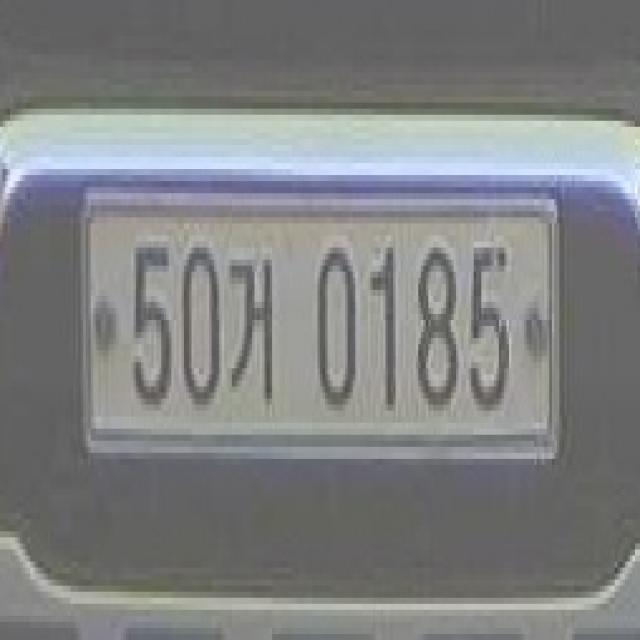0: (177, 242, 224, 413), (315, 238, 357, 412)
1: (366, 241, 402, 419)
5: (465, 239, 515, 418), (127, 238, 172, 404)
8: (414, 242, 457, 419)
geo: (228, 252, 278, 404)
license_plate: (77, 177, 558, 472)
